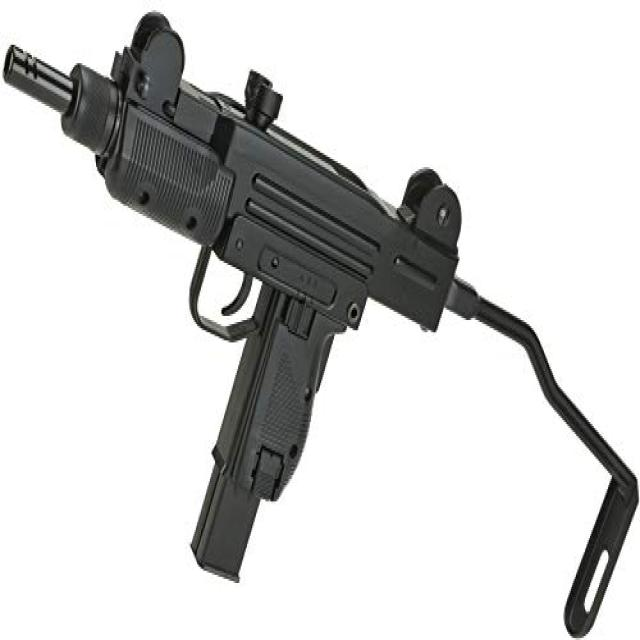SMG: (1, 12, 640, 640)
